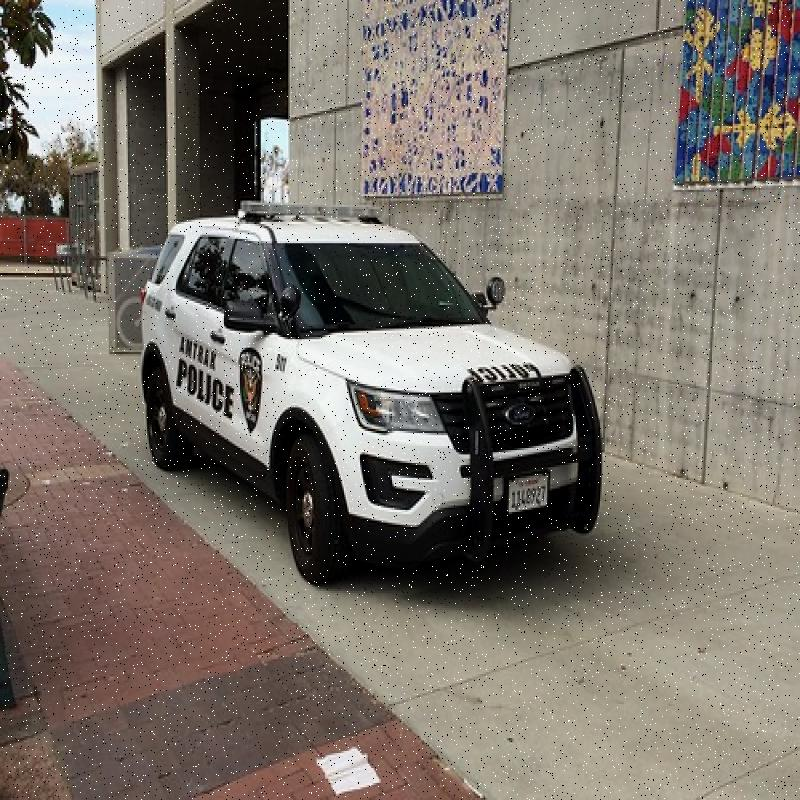AmbulanceSiren: (242, 189, 375, 235)
